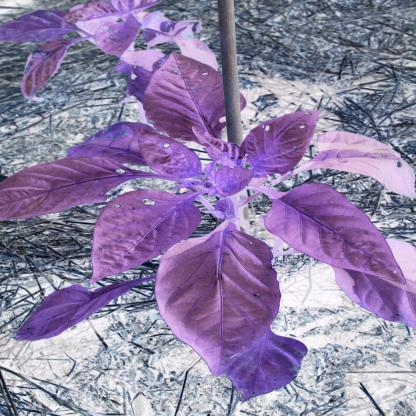tomato leaf: (72, 105, 281, 183), (199, 171, 349, 275), (194, 43, 345, 134), (290, 1, 390, 102), (113, 5, 217, 100), (359, 163, 416, 213), (404, 90, 416, 154)
